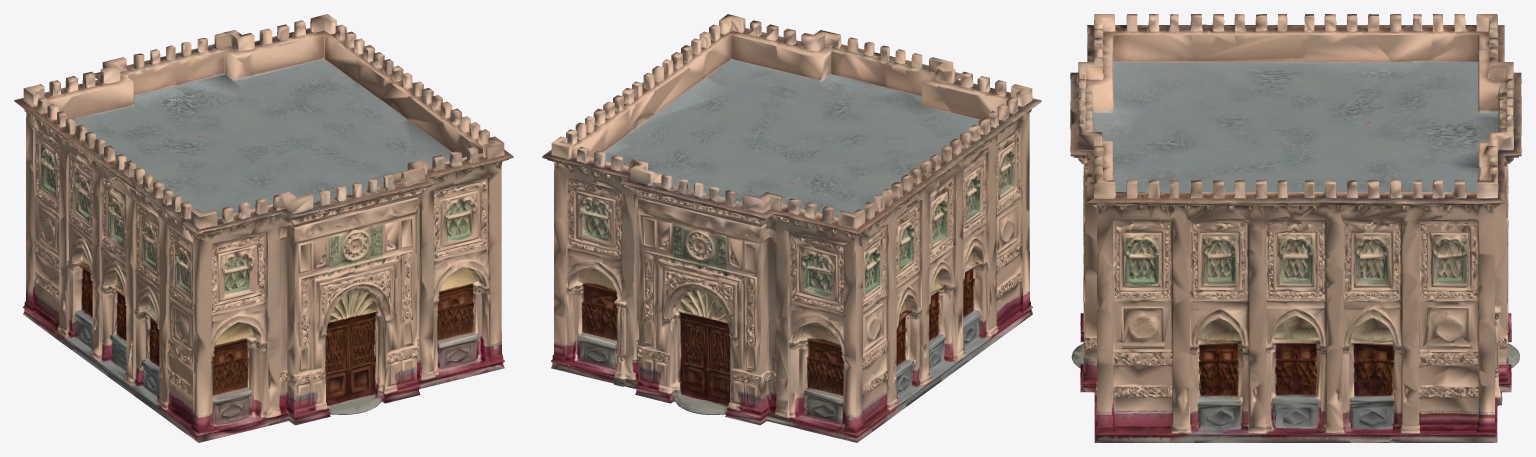
File: Meshy_AI_Corner_block_where_tw_0808145624_texture.glb
3 renders of one model, left to right at view 1: azimuth 30°, elevation 25°; view 2: azimuth 150°, elevation 25°; view 3: azimuth 270°, elevation 25°, orthographic. The views are drawn at different scales.
Visible parts, largest first — view 1: mesh_node; view 2: mesh_node; view 3: mesh_node.
Boxes of the visible parts, x1,y1,x2,y2 form: mesh_node: [14, 14, 513, 442]; mesh_node: [542, 14, 1041, 442]; mesh_node: [1070, 14, 1521, 442].
Bounding box in the file's own units: 1.77 × 1.2 × 1.9.
1 material, 1 textured.
